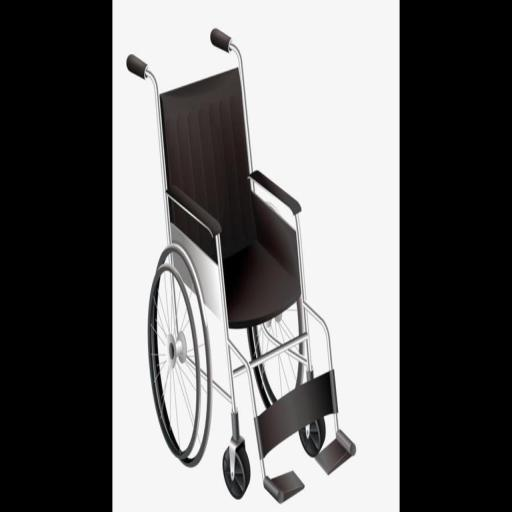cadeira_de_rodas: (122, 21, 364, 506)
